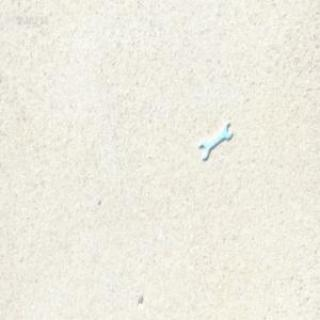Wrenchtrack_idkeyframe: (198, 122, 231, 160)
